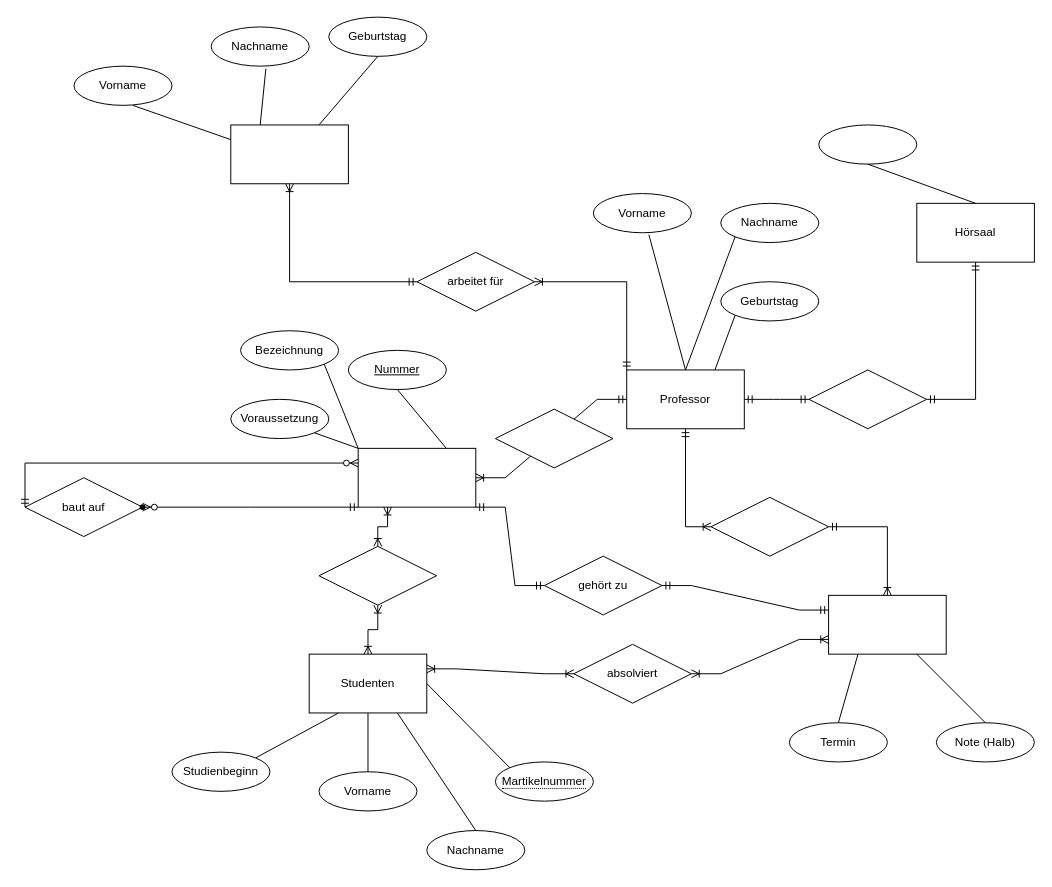
The diagram is 1052 pixels wide and 887 high, and some of its shapes have lost their labels. The shapes that lost their labels are listed below. From the top down, each one's centre as x and y in pixels, then its label:
point 289,154: Assistenten
point 867,144: HörsaalNr
point 867,399: Unterrichtet in
point 553,438: vorlesen
point 416,477: Vorlesung
point 769,526: Beaufsichtigt
point 377,575: Besucht
point 887,624: Prüfungen
